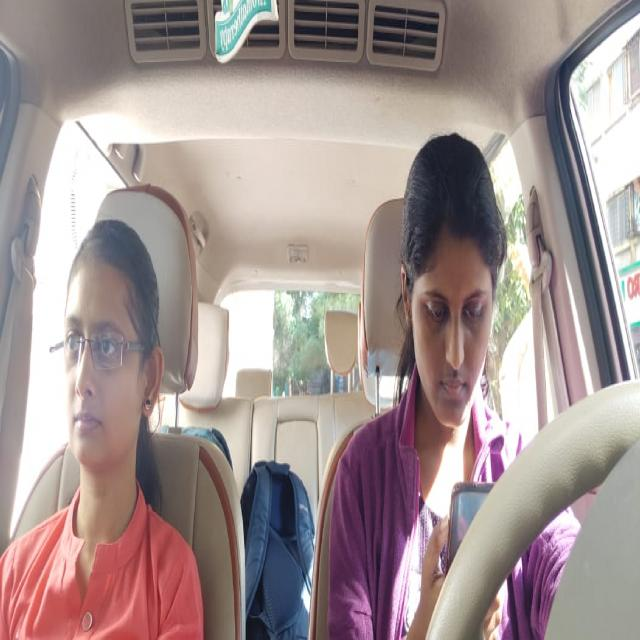mobile: (446, 478, 499, 600)
person: (399, 120, 501, 432), (56, 228, 164, 472)
